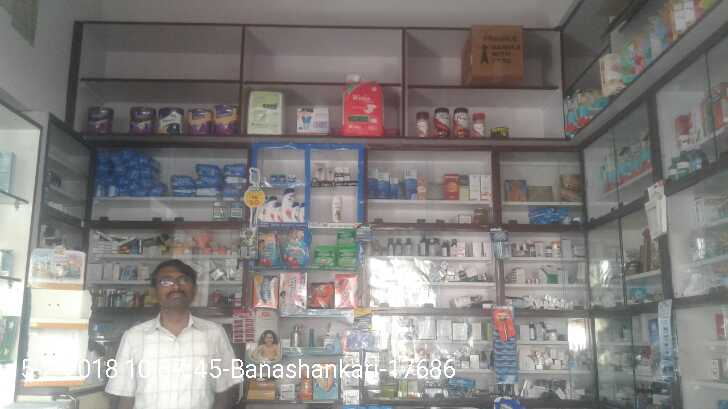beauty: (282, 187, 293, 223), (332, 194, 343, 222), (292, 200, 306, 221), (271, 197, 282, 223), (334, 167, 350, 182)
pharmacy: (275, 226, 307, 268), (254, 231, 279, 270), (311, 244, 335, 268), (337, 245, 358, 272), (333, 229, 356, 247), (288, 173, 298, 186)
